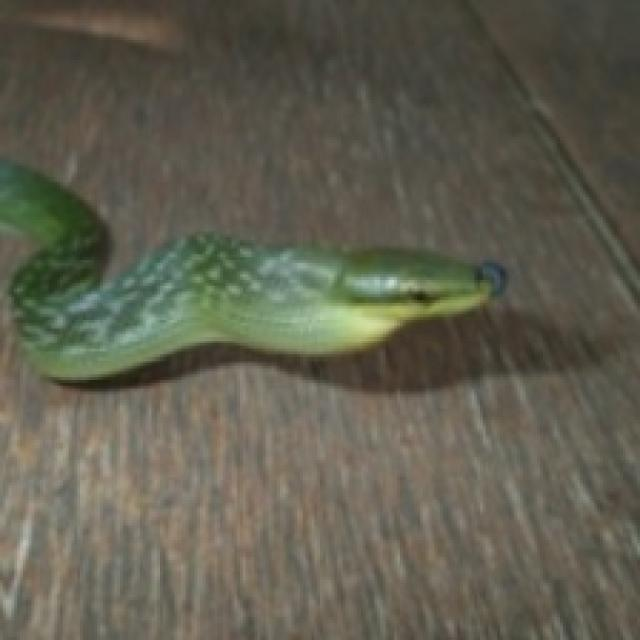red-tailed green ratsnake: (0, 160, 503, 380)
